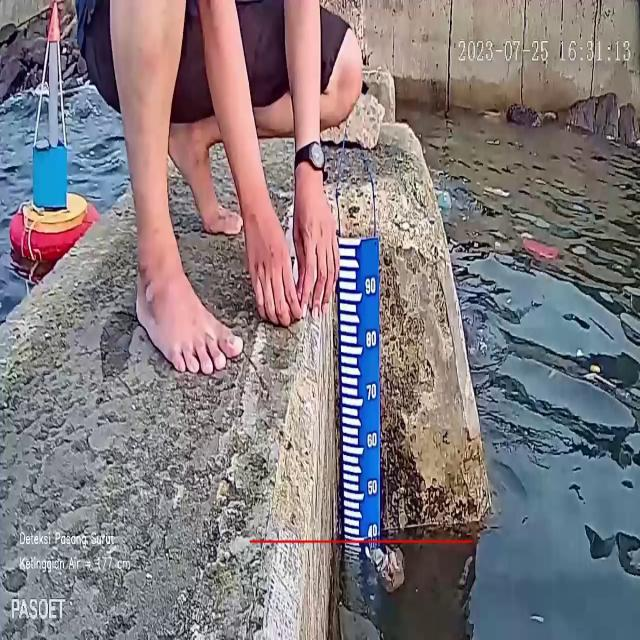water-meter: (332, 235, 384, 540)
